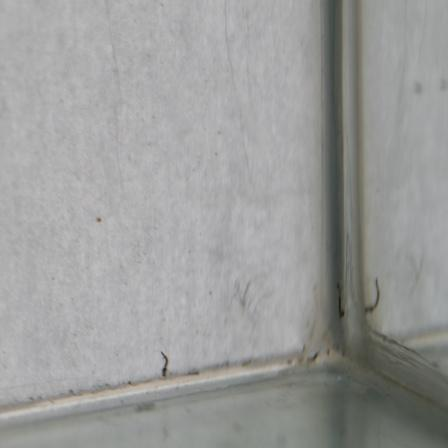Jentik-Nyamuk: (328, 276, 349, 323), (158, 346, 174, 379)
